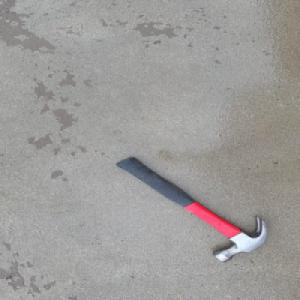Hammer: (113, 155, 267, 262)
